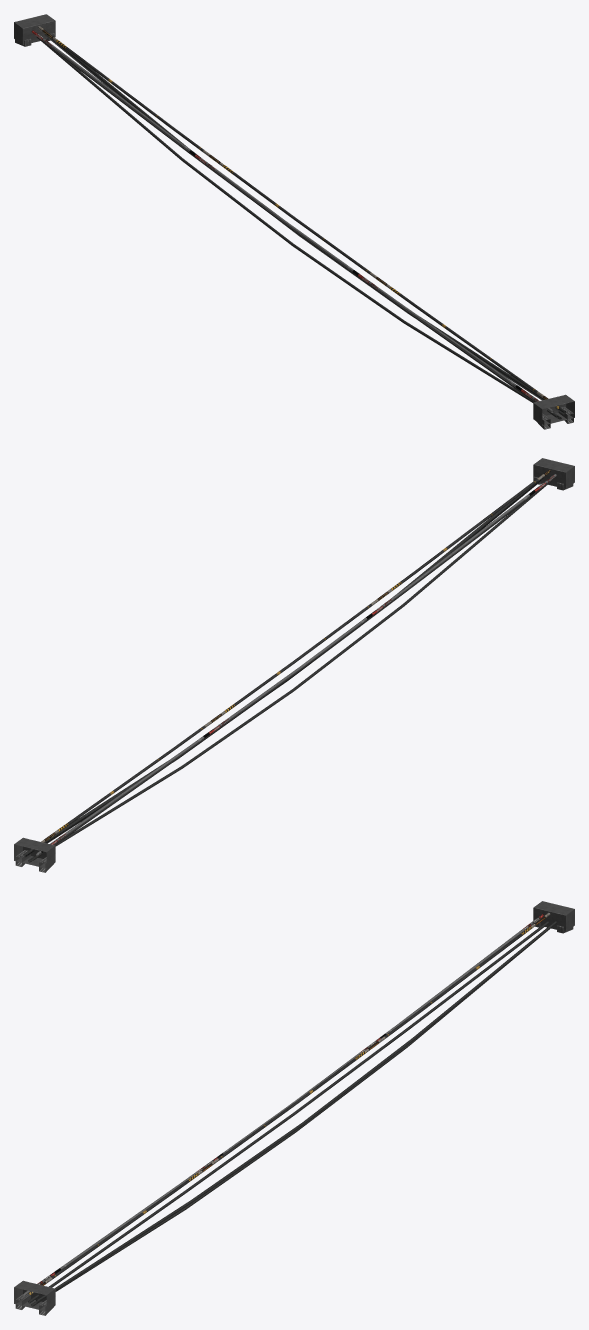
The model's file is CP_Wires_18m_01.fbx.
The picture shows the model from 3 angles, top to bottom: view 1: azimuth 30°, elevation 25°; view 2: azimuth 150°, elevation 25°; view 3: azimuth 330°, elevation 25°; orthographic projection.
Visible parts, largest first — view 1: CP_Wires_18m_01_LOD0; view 2: CP_Wires_18m_01_LOD0; view 3: CP_Wires_18m_01_LOD0.
Part boxes in pixels (x1,y1,x2,y2): CP_Wires_18m_01_LOD0: [14, 14, 574, 429]; CP_Wires_18m_01_LOD0: [14, 458, 574, 872]; CP_Wires_18m_01_LOD0: [14, 901, 574, 1315].
Size of what is drawn, in the model's own units: 65.14 by 66.07 by 1802.
